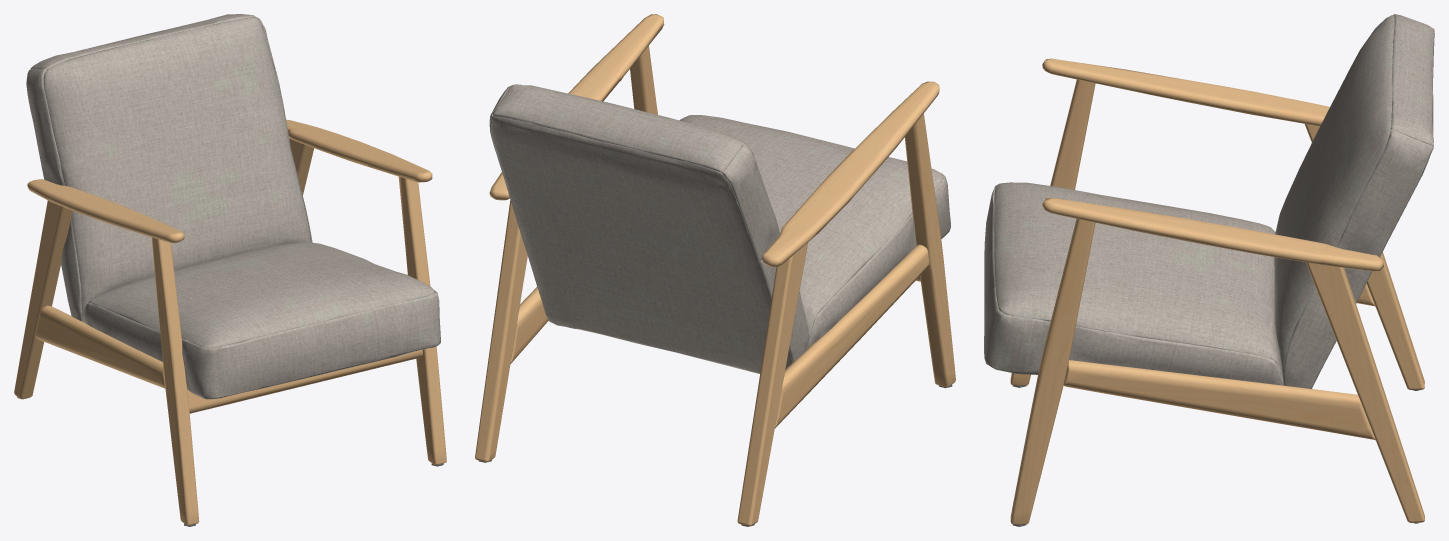
File: ekenaset_fotel_10624328.glb
3 renders of one model, left to right at view 1: azimuth 30°, elevation 25°; view 2: azimuth 150°, elevation 25°; view 3: azimuth 270°, elevation 25°, orthographic. The views are drawn at different scales.
Parts seen in each view (by area): view 1: ekenaset_fotel_10624328; view 2: ekenaset_fotel_10624328; view 3: ekenaset_fotel_10624328.
Boxes of the visible parts, <box> form: ekenaset_fotel_10624328: <box>14,14,446,526</box>; ekenaset_fotel_10624328: <box>475,14,955,526</box>; ekenaset_fotel_10624328: <box>984,14,1434,526</box>.
Bounding box in the file's own units: 0.6501 × 0.755 × 0.7951.
Materials: 1 (1 with a texture image).
